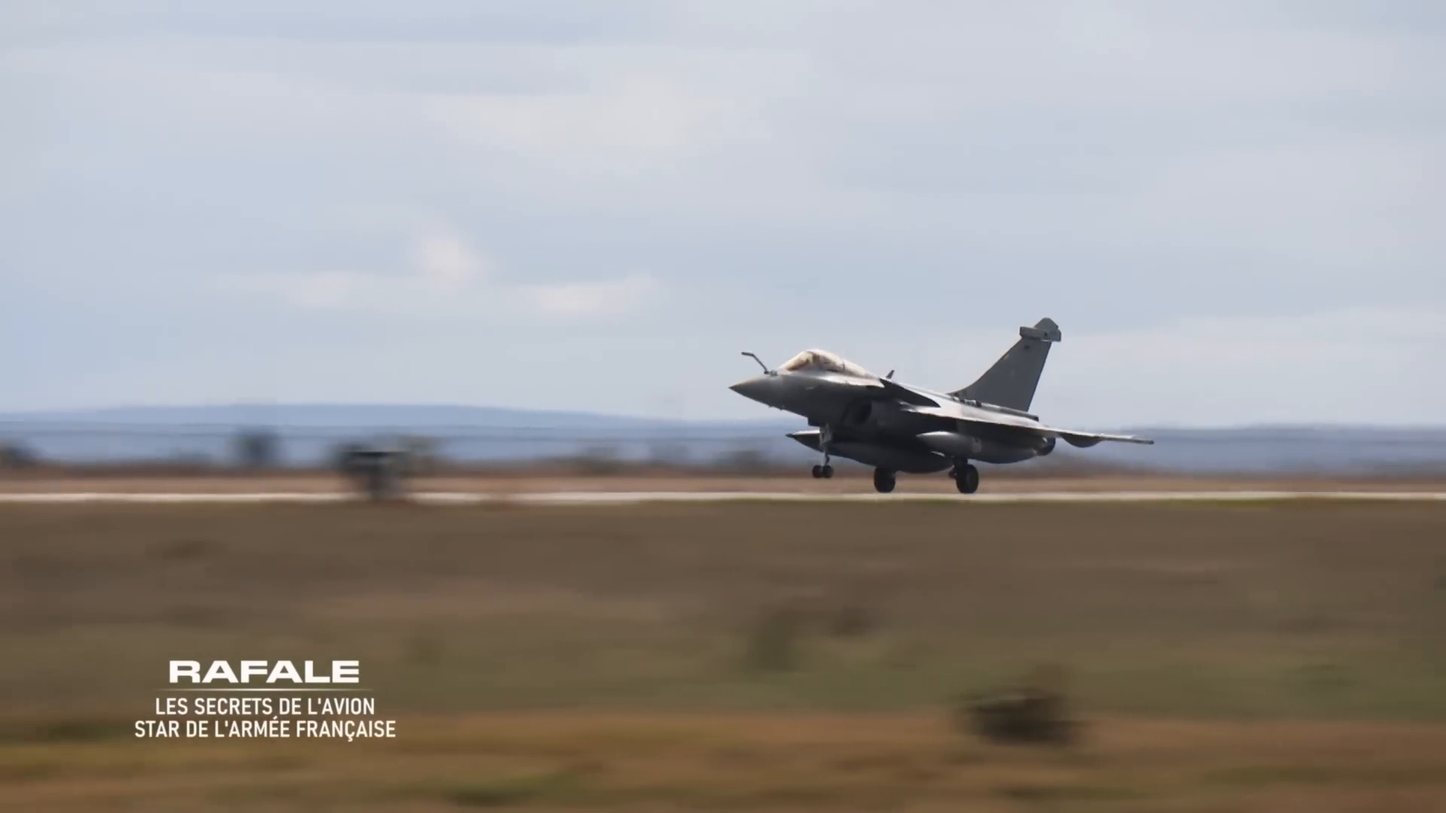Rafale: (735, 316, 1153, 494)
